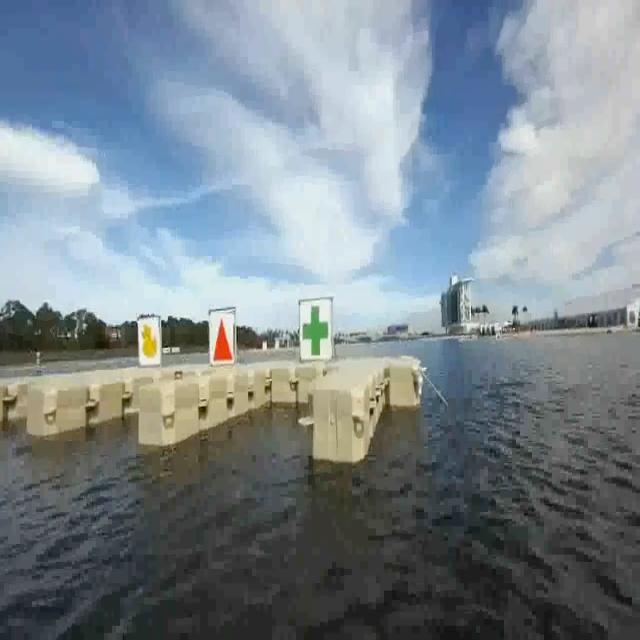blue-cross: (296, 298, 333, 364)
red-dot: (207, 307, 238, 369)
yellow-duck: (135, 316, 166, 368)
